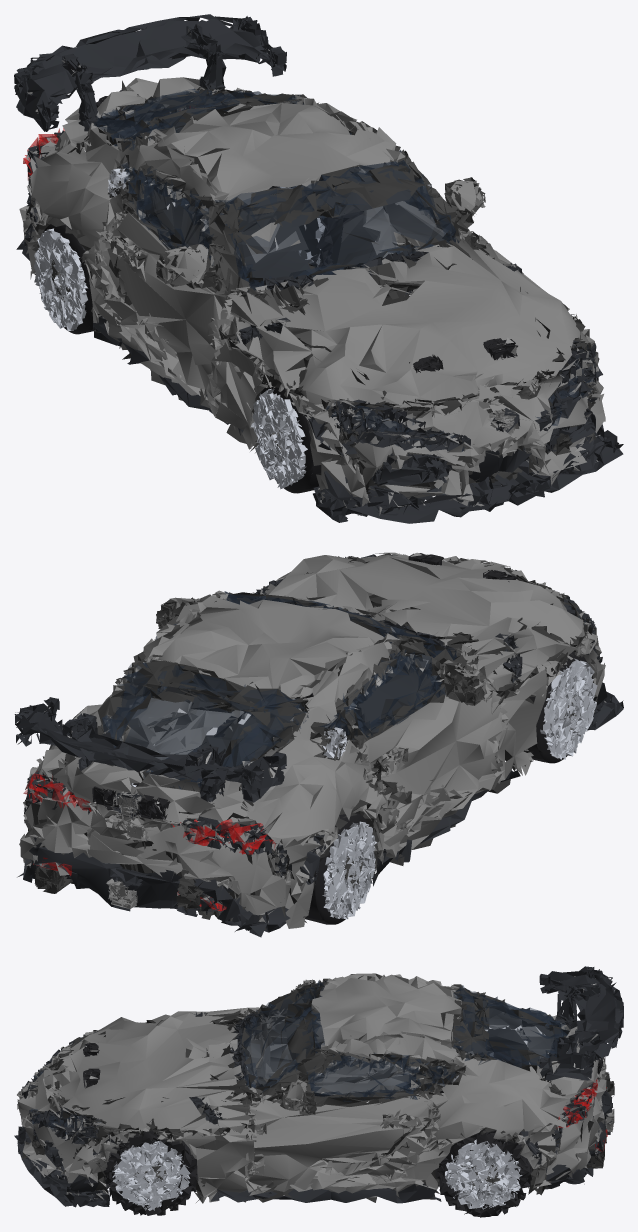
File: toyota-supra-gt4.glb
The picture shows the model from 3 angles, top to bottom: view 1: azimuth 30°, elevation 25°; view 2: azimuth 150°, elevation 25°; view 3: azimuth 270°, elevation 25°; orthographic projection. The views are drawn at different scales.
Parts seen in each view (by area): view 1: BODY, GLASS, WHEEL_RF, WHEEL_RR, WHEEL_LR; view 2: BODY, GLASS, WHEEL_RR, WHEEL_RF; view 3: BODY, GLASS, WHEEL_LR, WHEEL_LF.
Part boxes in pixels (box(x1,y1,x2,y2)): BODY: box(14, 14, 623, 523); GLASS: box(23, 88, 593, 451); WHEEL_RF: box(251, 386, 321, 493); WHEEL_RR: box(34, 224, 98, 334); WHEEL_LR: box(272, 175, 363, 273); BODY: box(14, 552, 623, 937); GLASS: box(23, 591, 596, 911); WHEEL_RR: box(305, 812, 377, 924); WHEEL_RF: box(527, 651, 597, 763); BODY: box(14, 966, 623, 1207); GLASS: box(31, 980, 607, 1151); WHEEL_LR: box(435, 1130, 531, 1217); WHEEL_LF: box(103, 1129, 198, 1215).
Bounding box in the file's own units: 2.05 × 1.32 × 4.45.
